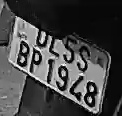1: (44, 59, 55, 88)
4: (71, 72, 82, 105)
5: (61, 36, 77, 68)
8: (84, 82, 98, 109)
9: (57, 64, 68, 95)
B: (16, 39, 30, 72)
D: (35, 24, 49, 52)
L: (49, 31, 62, 58)
P: (29, 48, 42, 78)
S: (75, 46, 92, 76)
